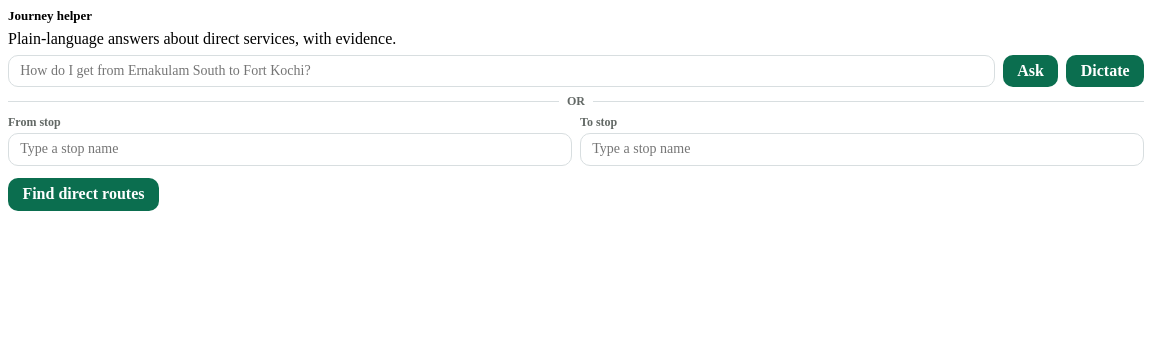
Test: JourneyPanel › completes a two-step both-ends flow with surviving context
Type "How do I get from Aluva to Kaloor?" into the field named "your journey question" at [501, 71], box [8,55,995,87]
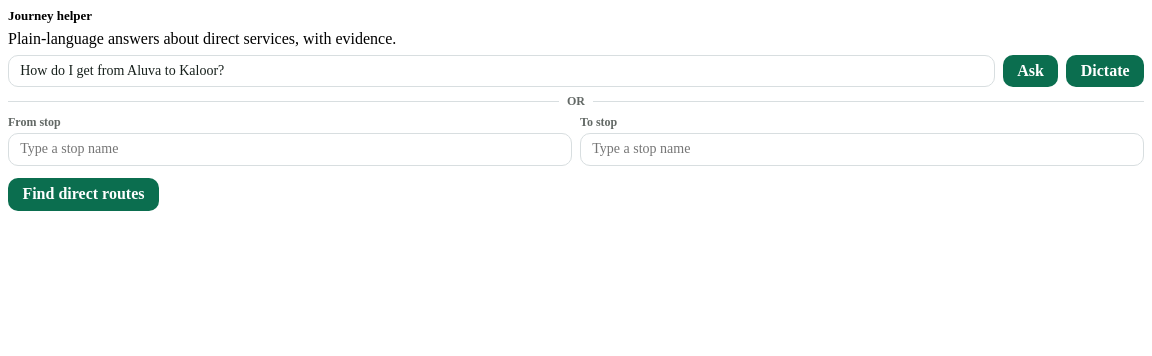
Click the button "Ask" at [1031, 71], box [1003,55,1058,87]
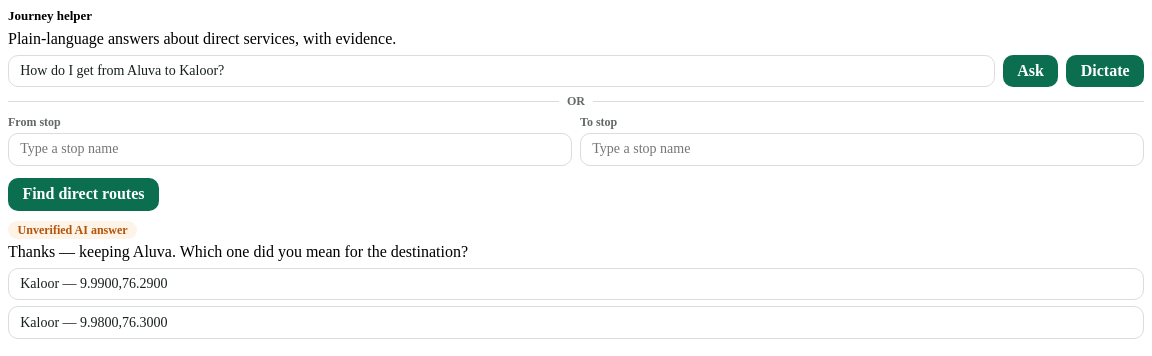
Check: the number of buttons "Kaloor — 9.9900,76.2900" is 2
Click the button "Kaloor — 9.9900,76.2900" at [40, 283], box [8,268,1144,300]
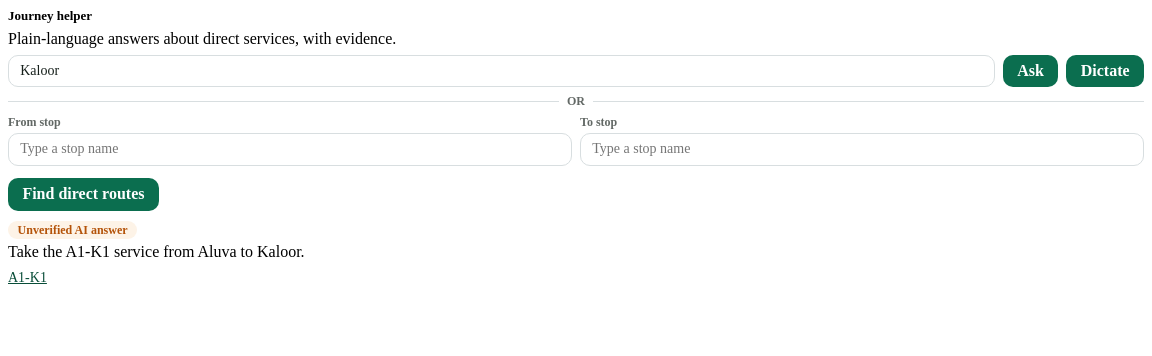
Check: the text "Take the A1-K1 service from Aluva to Kaloor." is shown, box [8,243,305,260]
